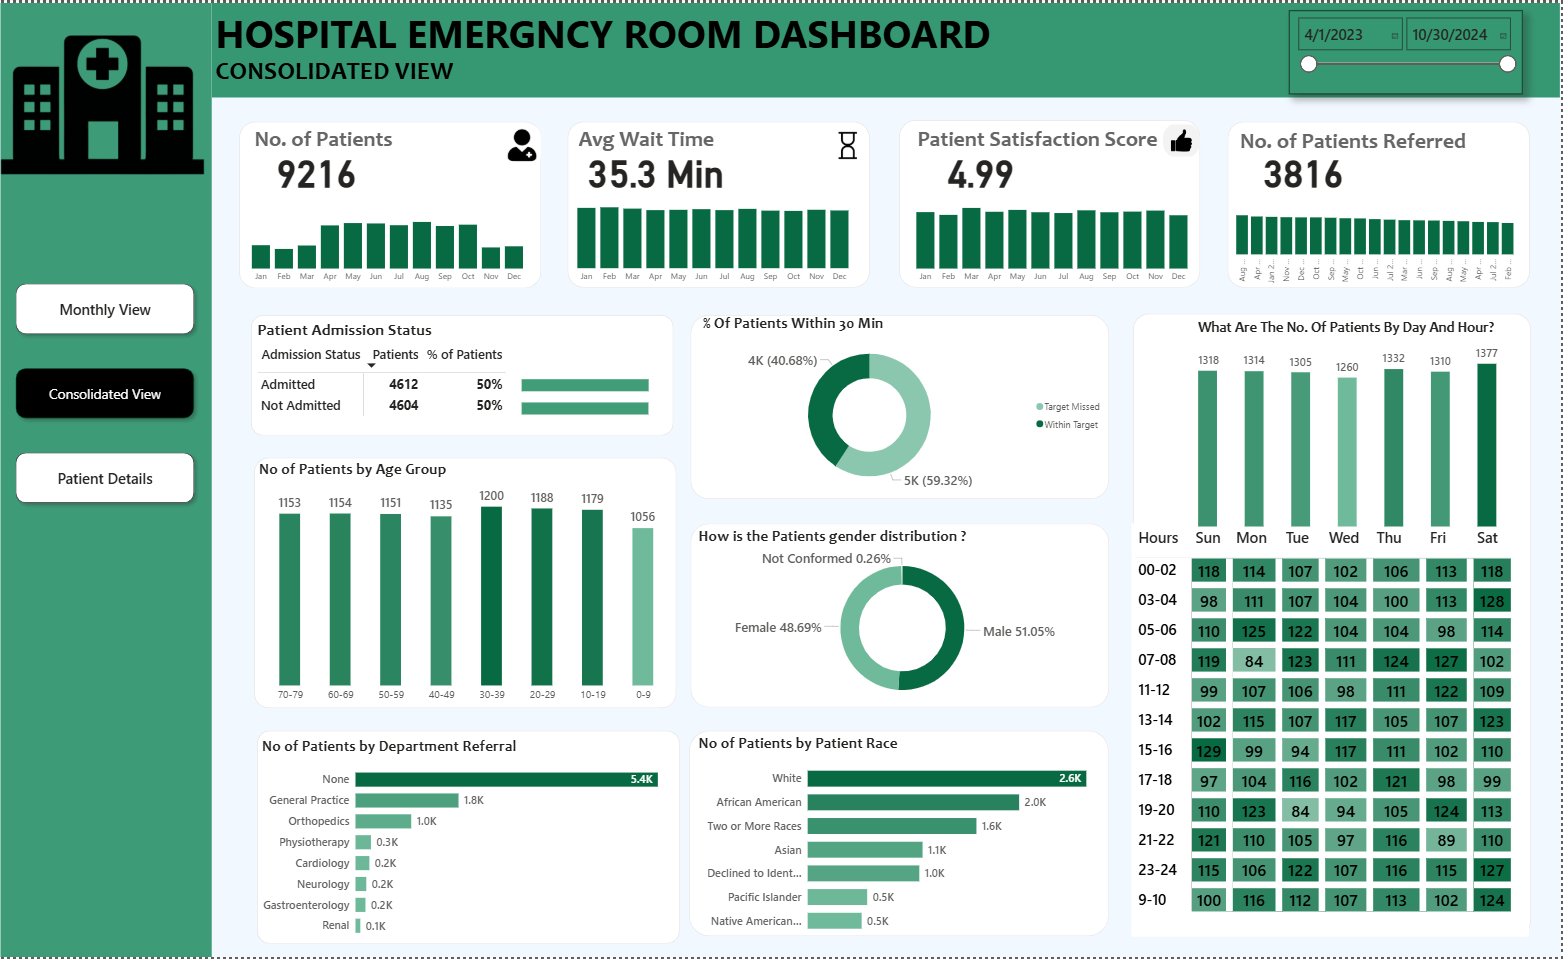

This screenshot's page, from the dashboard's own definition file:
{"tool":"powerbi","page":{"name":"Consolidated View","canvas":[2300,1400],"ordinal":1},"visuals":[{"type":"shape","box":[10.9,0,310,1401.2],"z":0},{"type":"shape","box":[321.1,0,1978,138.8],"z":1000},{"type":"textbox","box":[321.1,0,1191.7,103.4],"z":2000},{"type":"textbox","box":[321.1,70.7,454.4,68],"z":3000},{"type":"shape","box":[361.9,174.1,443.5,244.9],"z":4000},{"type":"card","fields":{"Values":["Hospital ER_Data.N of Patients"]},"box":[361.9,209.5,225.8,68],"z":5000},{"type":"slicer","fields":{"Values":["Date Table.Date"]},"box":[1901.4,10,342.9,122.9],"z":6000},{"type":"textbox","box":[378.2,174.1,236.7,68],"z":7000},{"type":"columnChart","fields":{"Category":["Date Table.Month Name"],"Y":["Hospital ER_Data.No of Patients"]},"box":[361.9,274.8,435.3,144.2],"z":8000},{"type":"shape","box":[842,174,444,244],"z":9000},{"type":"card","fields":{"Values":["Hospital ER_Data.Avg Wait Time"]},"box":[854.3,209.5,236.7,68],"z":10000},{"type":"textbox","box":[853.9,174,236.7,68],"z":11000},{"type":"columnChart","fields":{"Category":["Date Table.Month Name"],"Y":["Avg(Hospital ER_Data.Patient Waittime)"]},"box":[838,277.5,435.3,141.5],"z":12000},{"type":"shape","box":[1330,172,442,246],"z":13000},{"type":"card","fields":{"Values":["Avg(Hospital ER_Data.Patient Satisfaction Score)"]},"box":[1335.9,209.5,225.8,68],"z":14000},{"type":"textbox","box":[1352.3,174.1,394.5,68],"z":15000},{"type":"columnChart","fields":{"Category":["Date Table.Month Name"],"Y":["Avg(Hospital ER_Data.Patient Satisfaction Score)"]},"box":[1335.3,275.4,435.3,144.2],"z":16000},{"type":"shape","box":[1812,174,444,244],"z":17000},{"type":"card","fields":{"Values":["Hospital ER_Data.No. of Patients Referred"]},"box":[1809.4,212.2,225.8,65.3],"z":18000},{"type":"textbox","box":[1825.7,176.9,419,68],"z":19000},{"type":"columnChart","fields":{"Category":["Date Table.Month & Year"],"Y":["Hospital ER_Data.No. of Patients Referred"]},"box":[1809.7,278.2,435.3,144.2],"z":20000},{"type":"shape","box":[378.2,457.1,620,177],"z":21000},{"type":"pivotTable","title":"Patient Admission Status","fields":{"Rows":["Hospital ER_Data.Admission Status"],"Values":["Hospital ER_Data.No of Patients1","Hospital ER_Data.No of Patients"]},"box":[382.7,463.6,620,164.5],"z":22000},{"type":"barChart","fields":{"Category":["Hospital ER_Data.Admission Status"],"Y":["Hospital ER_Data.No of Patients"]},"box":[770,520.8,252.5,106.7],"z":23000},{"type":"shape","box":[382,666,620,368],"z":24000},{"type":"columnChart","fields":{"Category":["Hospital ER_Data.Age Group"],"Y":["Hospital ER_Data.No of Patients"]},"box":[386,670,620,366],"z":25000},{"type":"shape","box":[386.4,1066.6,620.4,312.9],"z":26000},{"type":"clusteredBarChart","fields":{"Category":["Hospital ER_Data.Department Referral"],"Y":["Hospital ER_Data.No of Patients"]},"box":[388.6,1077.1,618.6,305.7],"z":27000},{"type":"shape","box":[1024,458,614,270],"z":28000},{"type":"donutChart","title":"% Of Patients Within 30 Min","fields":{"Category":["Hospital ER_Data.Wait Time Status"],"Y":["Hospital ER_Data.No of Patients"]},"box":[1036,456,602,270],"z":29000},{"type":"shape","box":[1024,764,614,270],"z":30000},{"type":"donutChart","title":"How is the Patients gender distribution ?","fields":{"Y":["Hospital ER_Data.No of Patients"],"Category":["Hospital ER_Data.Patient Gender"]},"box":[1030,768,608,270],"z":31000},{"type":"shape","box":[1022,1068,616,302],"z":32000},{"type":"clusteredBarChart","fields":{"Y":["Hospital ER_Data.No of Patients"],"Category":["Hospital ER_Data.Patient Race"]},"box":[1030,1072,608,306],"z":33000},{"type":"shape","box":[1672,456,584,914],"z":34000},{"type":"pivotTable","fields":{"Rows":["Hospital ER_Data.Wait time Interval"],"Columns":["Hospital ER_Data.WeekDay"],"Values":["Hospital ER_Data.No of Patients"]},"box":[1671.7,763.3,583.3,606.7],"z":35000},{"type":"columnChart","title":"What Are The No. Of Patients By Day And Hour?","fields":{"Category":["Hospital ER_Data.WeekDay"],"Y":["Hospital ER_Data.No of Patients"]},"box":[1763.3,463.3,450,311.7],"z":36000},{"type":"image","box":[1225.6,175.6,56.7,65.6],"z":37000},{"type":"image","box":[748.6,177.1,55.7,65.7],"z":38000},{"type":"image","box":[1717.1,175.7,54.3,51.4],"z":39000},{"type":"image","box":[10.9,0,299.3,299.3],"z":40000},{"type":"pageNavigator","box":[24.5,402.7,280.2,342.8],"z":40001}]}

Visuals, with their boxes in screenshot pixels (x1, y1, x2, y2), scaled from the page's 2300x1400 canvas onto the 1563x959 screenshot:
shape: BBox(7, 0, 218, 958)
shape: BBox(218, 0, 1562, 95)
textbox: BBox(218, 0, 1028, 71)
textbox: BBox(218, 48, 527, 95)
shape: BBox(246, 119, 547, 287)
card - Hospital ER_Data.N of Patients: BBox(246, 144, 399, 190)
slicer - Date Table.Date: BBox(1292, 7, 1525, 91)
textbox: BBox(257, 119, 418, 166)
columnChart - Date Table.Month Name x Hospital ER_Data.No of Patients: BBox(246, 188, 542, 287)
shape: BBox(572, 119, 874, 286)
card - Hospital ER_Data.Avg Wait Time: BBox(581, 144, 741, 190)
textbox: BBox(580, 119, 741, 166)
columnChart - Date Table.Month Name x Avg(Hospital ER_Data.Patient Waittime): BBox(569, 190, 865, 287)
shape: BBox(904, 118, 1204, 286)
card - Avg(Hospital ER_Data.Patient Satisfaction Score): BBox(908, 144, 1061, 190)
textbox: BBox(919, 119, 1187, 166)
columnChart - Date Table.Month Name x Avg(Hospital ER_Data.Patient Satisfaction Score): BBox(907, 189, 1203, 287)
shape: BBox(1231, 119, 1533, 286)
card - Hospital ER_Data.No. of Patients Referred: BBox(1230, 145, 1383, 190)
textbox: BBox(1241, 121, 1525, 168)
columnChart - Date Table.Month & Year x Hospital ER_Data.No. of Patients Referred: BBox(1230, 191, 1526, 289)
shape: BBox(257, 313, 678, 434)
"Patient Admission Status" pivotTable: BBox(260, 318, 681, 430)
barChart - Hospital ER_Data.Admission Status x Hospital ER_Data.No of Patients: BBox(523, 357, 695, 430)
shape: BBox(260, 456, 681, 708)
columnChart - Hospital ER_Data.Age Group x Hospital ER_Data.No of Patients: BBox(262, 459, 684, 710)
shape: BBox(263, 731, 684, 945)
clusteredBarChart - Hospital ER_Data.Department Referral x Hospital ER_Data.No of Patients: BBox(264, 738, 684, 947)
shape: BBox(696, 314, 1113, 499)
"% Of Patients Within 30 Min" donutChart: BBox(704, 312, 1113, 497)
shape: BBox(696, 523, 1113, 708)
"How is the Patients gender distribution ?" donutChart: BBox(700, 526, 1113, 711)
shape: BBox(695, 732, 1113, 938)
clusteredBarChart - Hospital ER_Data.No of Patients x Hospital ER_Data.Patient Race: BBox(700, 734, 1113, 944)
shape: BBox(1136, 312, 1533, 938)
pivotTable - Hospital ER_Data.Wait time Interval x Hospital ER_Data.WeekDay: BBox(1136, 523, 1532, 938)
"What Are The No. Of Patients By Day And Hour?" columnChart: BBox(1198, 317, 1504, 531)
image: BBox(833, 120, 871, 165)
image: BBox(509, 121, 547, 166)
image: BBox(1167, 120, 1204, 156)
image: BBox(7, 0, 211, 205)
pageNavigator: BBox(17, 276, 207, 511)
